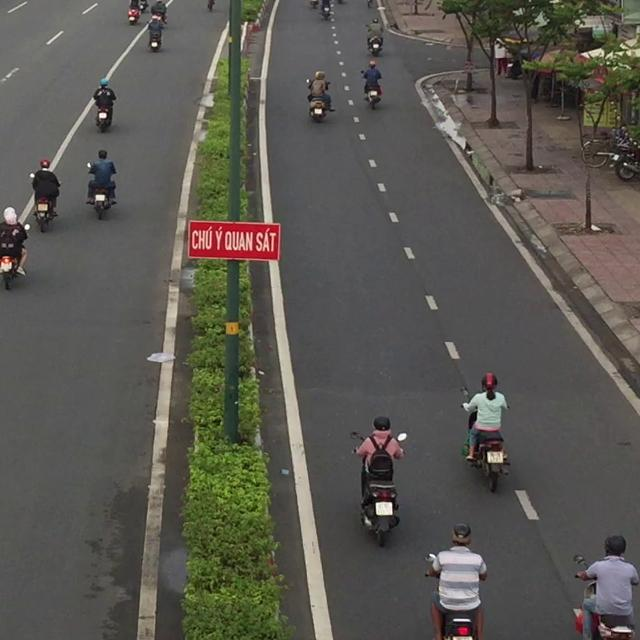Motorcycle: (350, 430, 407, 546), (424, 552, 487, 639), (572, 554, 635, 639), (460, 386, 510, 492), (85, 161, 117, 220), (29, 172, 60, 232), (305, 78, 331, 122), (92, 92, 115, 133), (360, 72, 382, 109), (146, 14, 166, 52)
